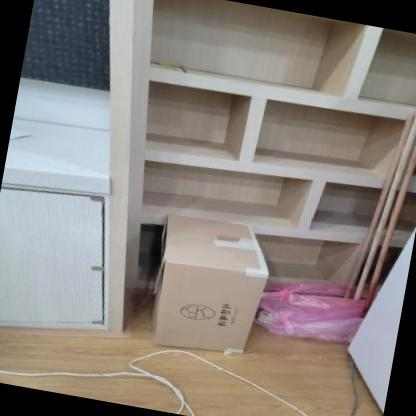box: (128, 198, 285, 372)
